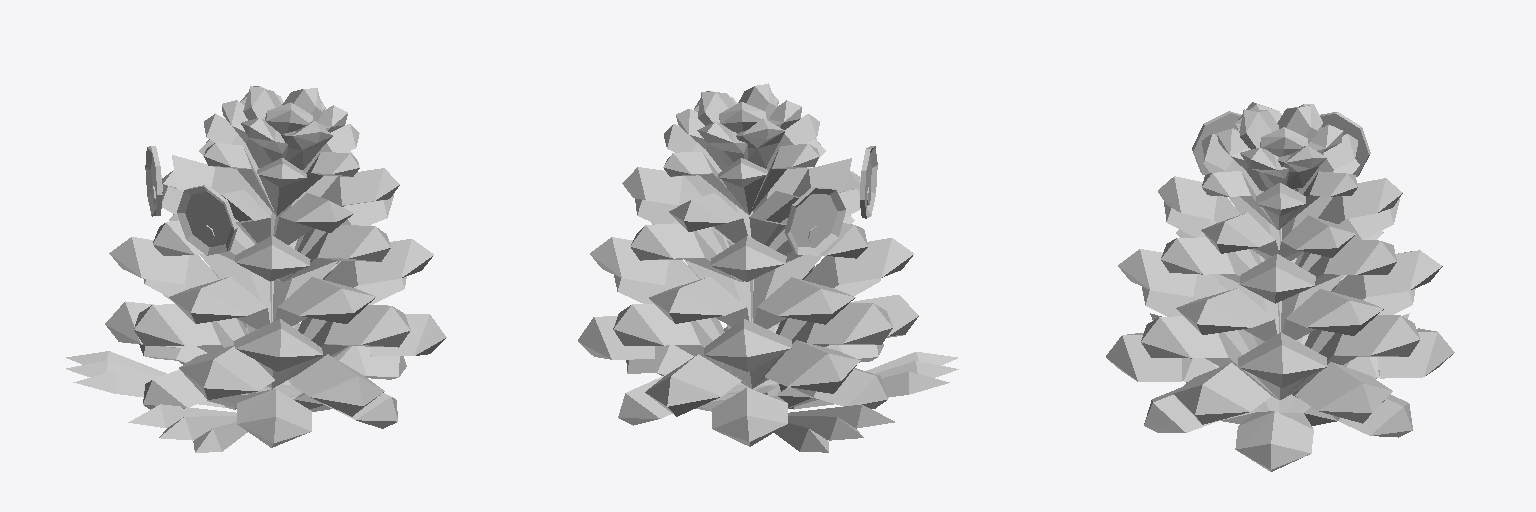
The model's file is pineconeChargingLunge11.obj.
3 views of the same model, side by side, from view 1: azimuth 30°, elevation 25°; view 2: azimuth 150°, elevation 25°; view 3: azimuth 270°, elevation 25° (orthographic).
Parts seen in each view (by area): view 1: Cube.001_Cube.004; view 2: Cube.001_Cube.004; view 3: Cube.001_Cube.004.
Boxes of the visible parts, box(x1,y1,x2,y2) form: Cube.001_Cube.004: box(66, 86, 446, 452); Cube.001_Cube.004: box(578, 83, 958, 452); Cube.001_Cube.004: box(1106, 102, 1454, 471).
Size of the model in its own units: 28.29 by 27.21 by 27.55.